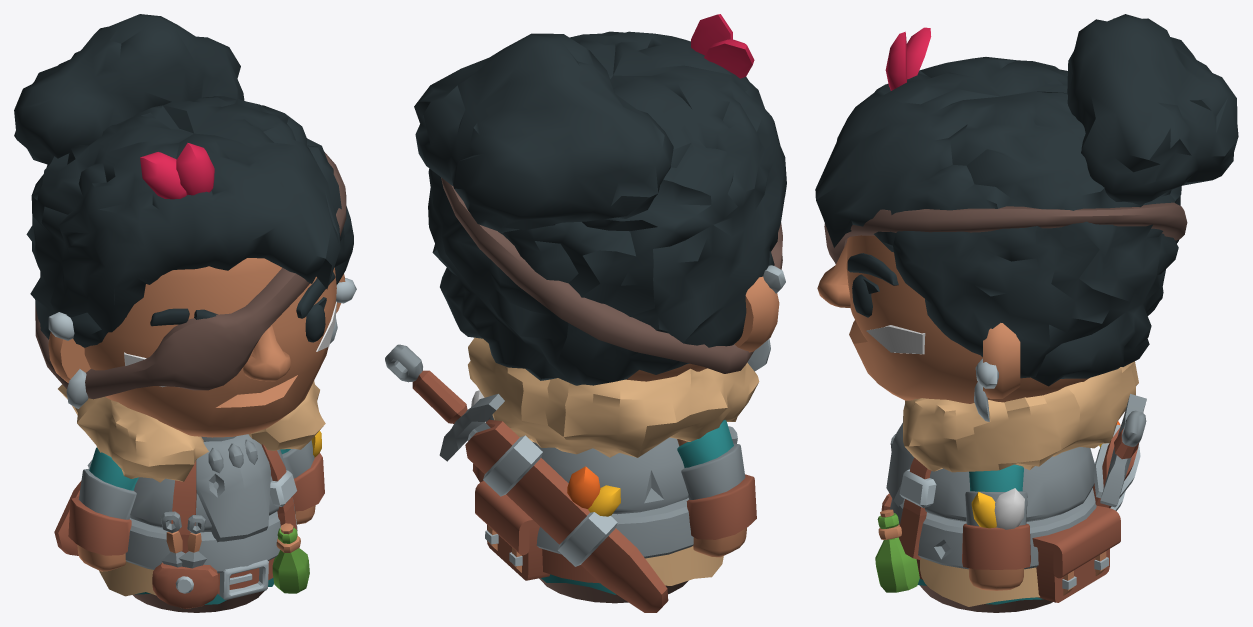
Rendered from character_mercenary.gltf.
The picture shows the model from 3 angles, left to right: view 1: azimuth 30°, elevation 25°; view 2: azimuth 150°, elevation 25°; view 3: azimuth 270°, elevation 25°; orthographic projection. The views are drawn at different scales.
Visible parts, largest first — view 1: character_mercenary_head, character_mercenary_body, character_mercenary_eyepatch, character_mercenary_collar, character_mercenary_armRight, character_mercenary_armLeft, character_mercenary_sheath; view 2: character_mercenary_head, character_mercenary_collar, character_mercenary_body, character_mercenary_sheath, character_mercenary_eyepatch, character_mercenary_armRight, character_mercenary_sword; view 3: character_mercenary_head, character_mercenary_body, character_mercenary_collar, character_mercenary_eyepatch, character_mercenary_armLeft, character_mercenary_sword, character_mercenary_sheath.
Part boxes in pixels (bbox=[...]): character_mercenary_head: bbox=[14, 14, 356, 437]; character_mercenary_body: bbox=[99, 434, 309, 612]; character_mercenary_eyepatch: bbox=[35, 151, 346, 399]; character_mercenary_collar: bbox=[58, 380, 325, 482]; character_mercenary_armRight: bbox=[68, 447, 138, 571]; character_mercenary_armLeft: bbox=[280, 430, 324, 524]; character_mercenary_sheath: bbox=[54, 459, 92, 555]; character_mercenary_head: bbox=[414, 14, 786, 385]; character_mercenary_collar: bbox=[468, 337, 759, 457]; character_mercenary_body: bbox=[475, 426, 737, 603]; character_mercenary_sheath: bbox=[465, 419, 668, 612]; character_mercenary_eyepatch: bbox=[441, 177, 782, 373]; character_mercenary_armRight: bbox=[677, 420, 756, 557]; character_mercenary_sword: bbox=[385, 344, 504, 461]; character_mercenary_head: bbox=[815, 14, 1238, 421]; character_mercenary_body: bbox=[875, 416, 1120, 612]; character_mercenary_collar: bbox=[903, 361, 1138, 472]; character_mercenary_eyepatch: bbox=[824, 202, 1187, 264]; character_mercenary_armLeft: bbox=[962, 464, 1030, 590]; character_mercenary_sword: bbox=[1100, 394, 1146, 507]; character_mercenary_sheath: bbox=[1092, 421, 1140, 510].
Size of the model in its own units: 1.23 by 2.01 by 1.37.
